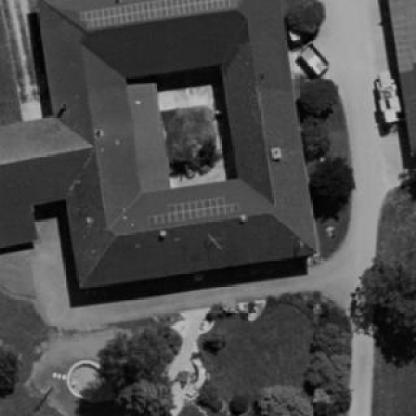solar-pv-panel: (79, 0, 236, 28), (148, 198, 239, 225)
